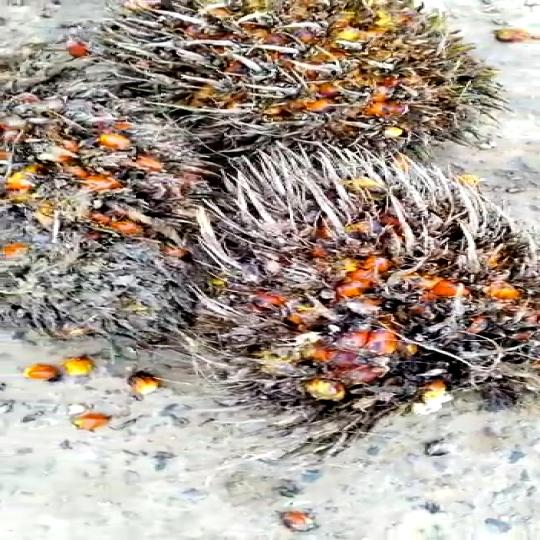terlalu masak: (178, 152, 526, 429), (127, 8, 489, 165)
